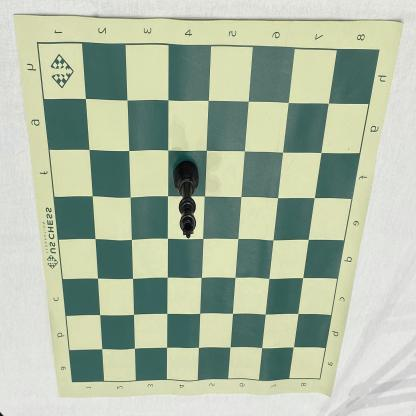black-king: (173, 160, 199, 239)
